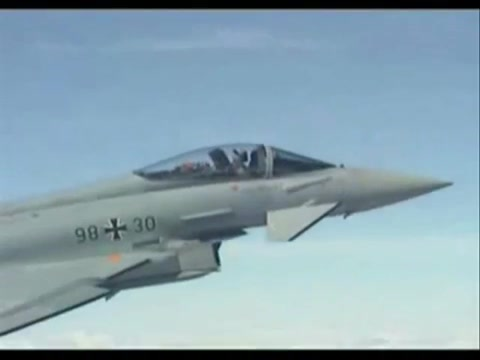aeroplane: (1, 143, 455, 338)
